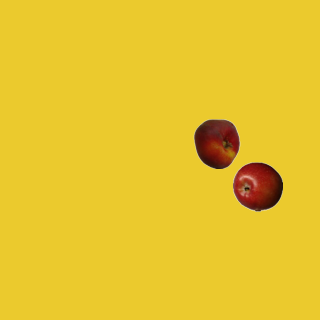Apple Braeburn: (232, 161, 282, 211)
Nectarine Flat: (191, 118, 241, 168)
